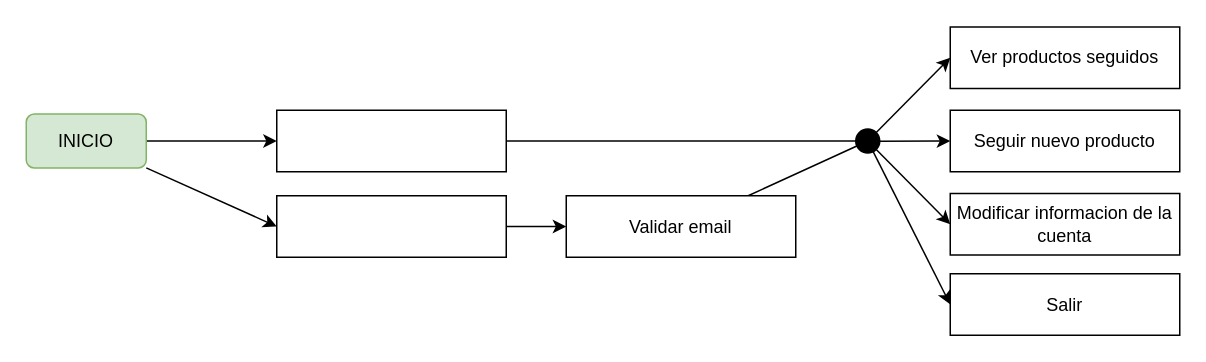
Image size: 1206x362. Some labels were removed from this diagram. The box of each missing label's shape, as (x1, y1, x2, y2) in pixels:
Entrar: (275, 109, 506, 172)
Registrarse: (275, 194, 506, 257)
